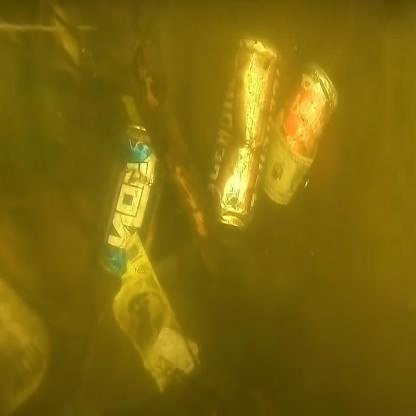can: (199, 28, 278, 240), (270, 44, 348, 237), (100, 104, 164, 290)
